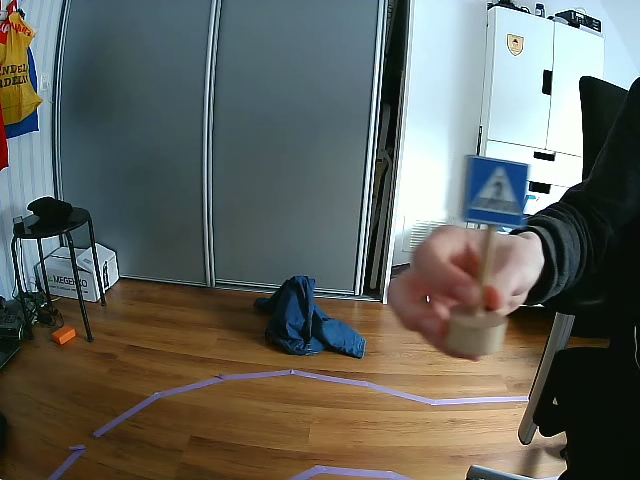zebrapad: (464, 157, 529, 222)
